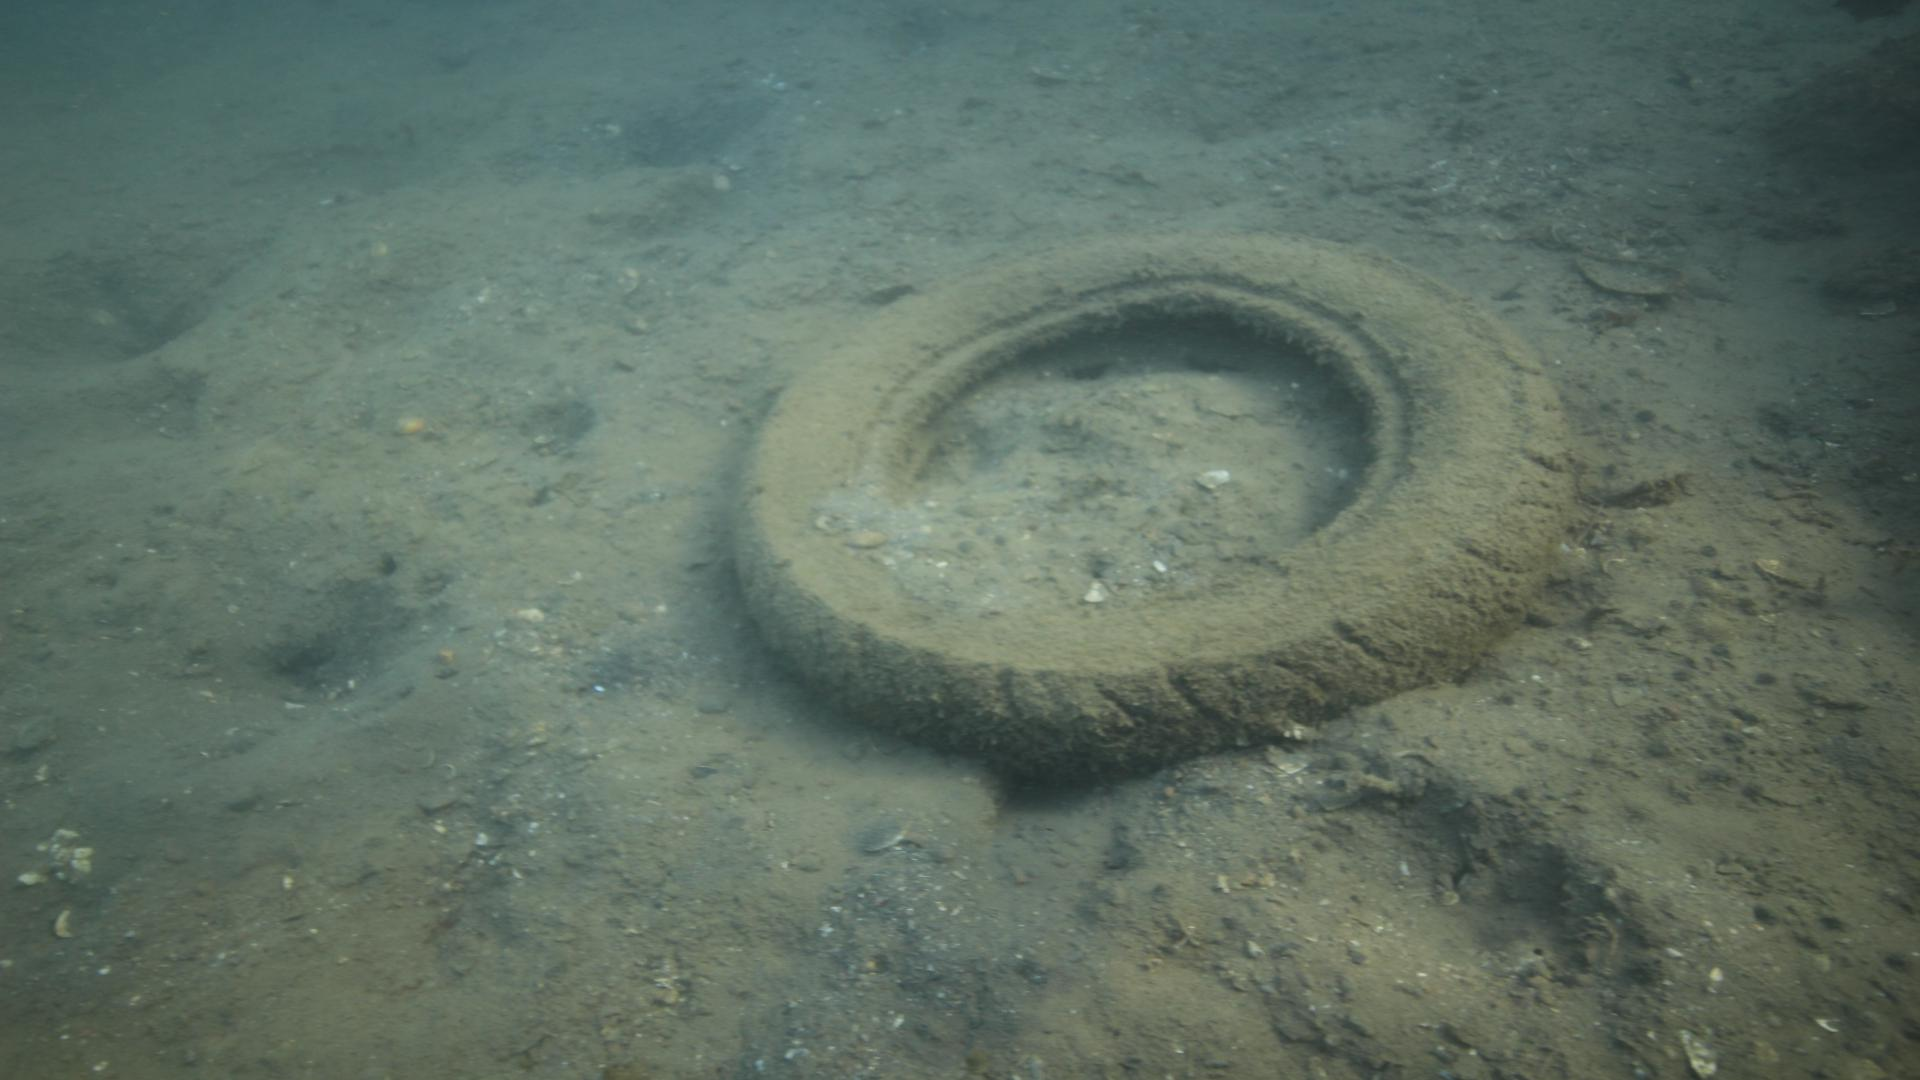tire: (731, 223, 1578, 789)
